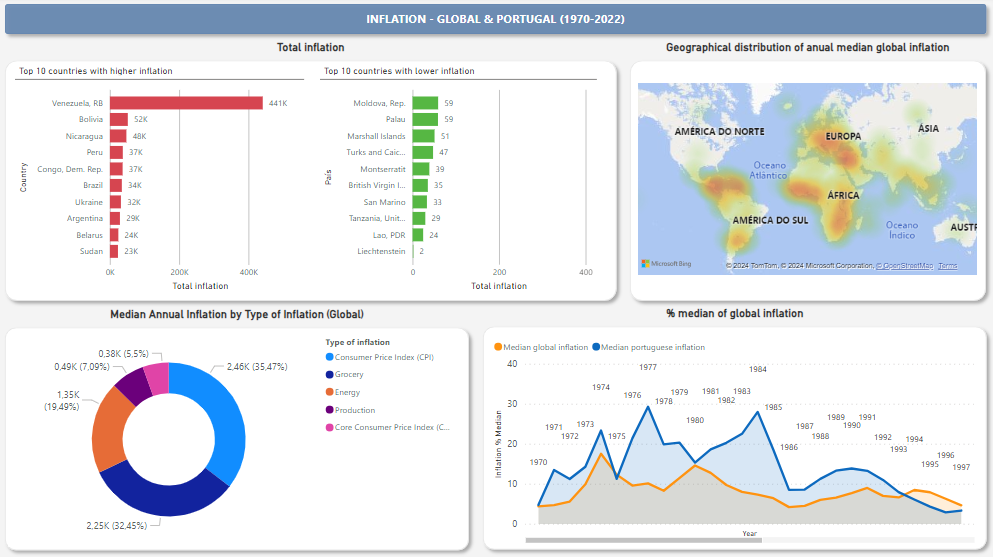

This screenshot's page, from the dashboard's own definition file:
{"tool":"powerbi","page":{"name":"Global_Portugal","canvas":[1280,720],"ordinal":0},"visuals":[{"type":"shape","title":"Median Annual Inflation by Type of Inflation (Global)","box":[0,399.4,614.3,320.6],"z":0},{"type":"donutChart","fields":{"Category":["tipo_de_inflacao.tipo_inflacao"],"Y":["_Medidas.Mediana_Anual_inflacao"]},"box":[12.7,430.9,586.4,276.4],"z":1000},{"type":"shape","title":"Geographical distribution of anual median global inflation","box":[804.2,56.4,475.5,343],"z":2000},{"type":"map","fields":{"Category":["Countries.Country"],"Size":["_Medidas.Mediana_Anual_inflacao"]},"box":[817.6,105.7,446,257],"z":3000},{"type":"shape","box":[0,0,1279.7,56.4],"z":4000},{"type":"shape","title":"Total inflation","box":[0,56.4,804.2,343],"z":5000},{"type":"clusteredBarChart","title":"Top 10 countries with higher inflation","fields":{"Category":["Countries.Country"],"Y":["_Medidas.total_inflacao"]},"box":[21.5,87.8,371.6,293.7],"z":6000},{"type":"clusteredBarChart","title":"Top 10 countries with lower inflation","fields":{"Category":["Countries.Country"],"Y":["_Medidas.total_inflacao"]},"box":[414.6,87.8,355.5,293.7],"z":7000},{"type":"shape","title":"% median of global inflation","box":[614.5,399.1,665.5,320.9],"z":9000},{"type":"areaChart","title":"Mediana da inflação global entre 1970 e 2022","fields":{"Category":["Ano.Ano"],"Y":["Medidas.mediana_inflaçao_global","Medidas.Mediana_Portugal"]},"box":[632.7,430.9,628.2,276.4],"z":10000}]}

Visuals, with their boxes in screenshot pixels (x1, y1, x2, y2), scaled from the page's 1280x720 canvas onto the 993x557 screenshot:
"Median Annual Inflation by Type of Inflation (Global)" shape: 0,309,477,556
donutChart - tipo_de_inflacao.tipo_inflacao x _Medidas.Mediana_Anual_inflacao: 10,333,465,547
"Geographical distribution of anual median global inflation" shape: 624,44,992,309
map - Countries.Country x _Medidas.Mediana_Anual_inflacao: 634,82,980,281
shape: 0,0,992,44
"Total inflation" shape: 0,44,624,309
"Top 10 countries with higher inflation" clusteredBarChart: 17,68,305,295
"Top 10 countries with lower inflation" clusteredBarChart: 322,68,597,295
"% median of global inflation" shape: 477,309,992,556
"Mediana da inflação global entre 1970 e 2022" areaChart: 491,333,978,547
